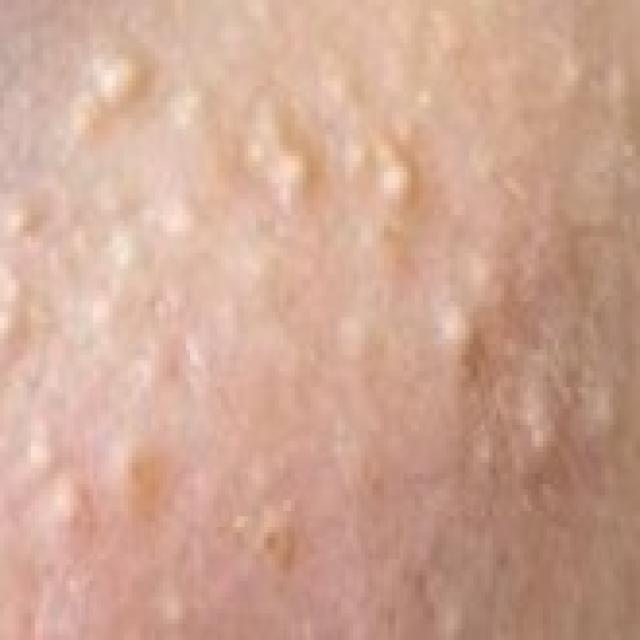whitehead: (0, 36, 625, 598)
